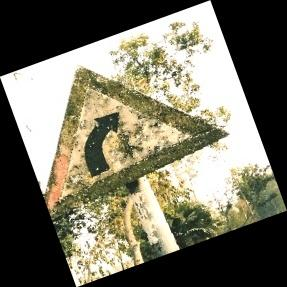Right-turn: (43, 64, 235, 210)
